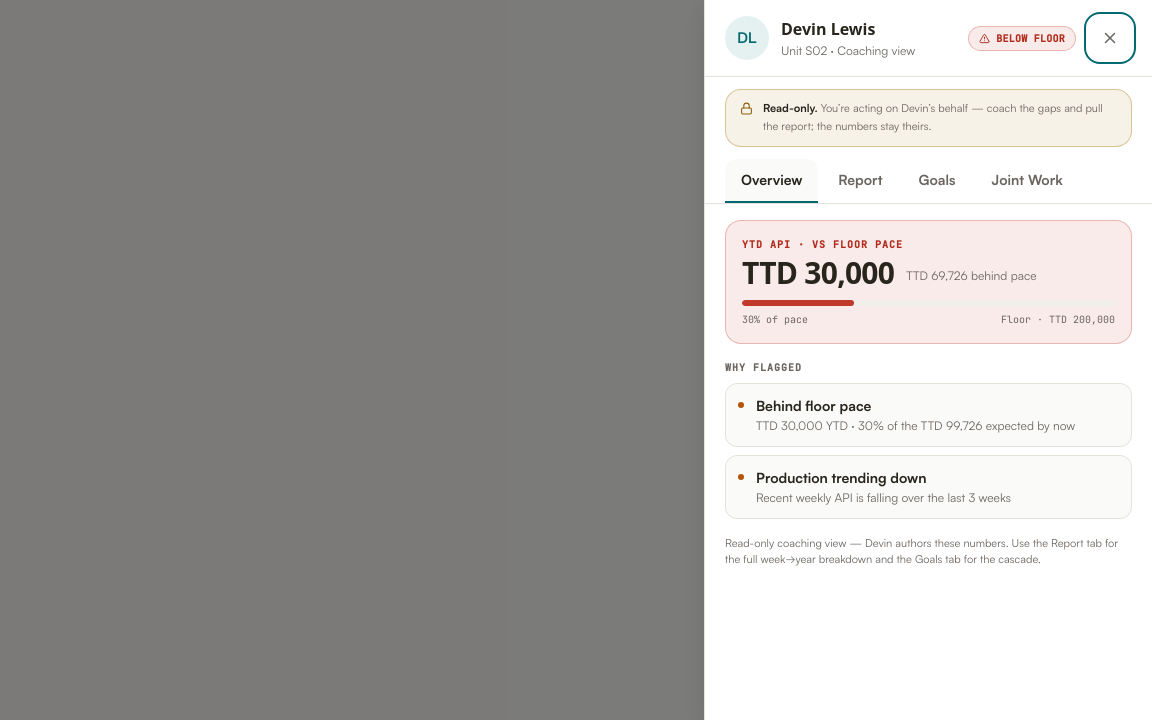
Test: AgentDrillDrawer › Goals tab renders the cascade from the hierarchy read
What coordinates should you click on to do the following:
click the tab with test id "drill-tab-goals"
I would click on:
 (937, 181)
Its box is [903,159,972,203].
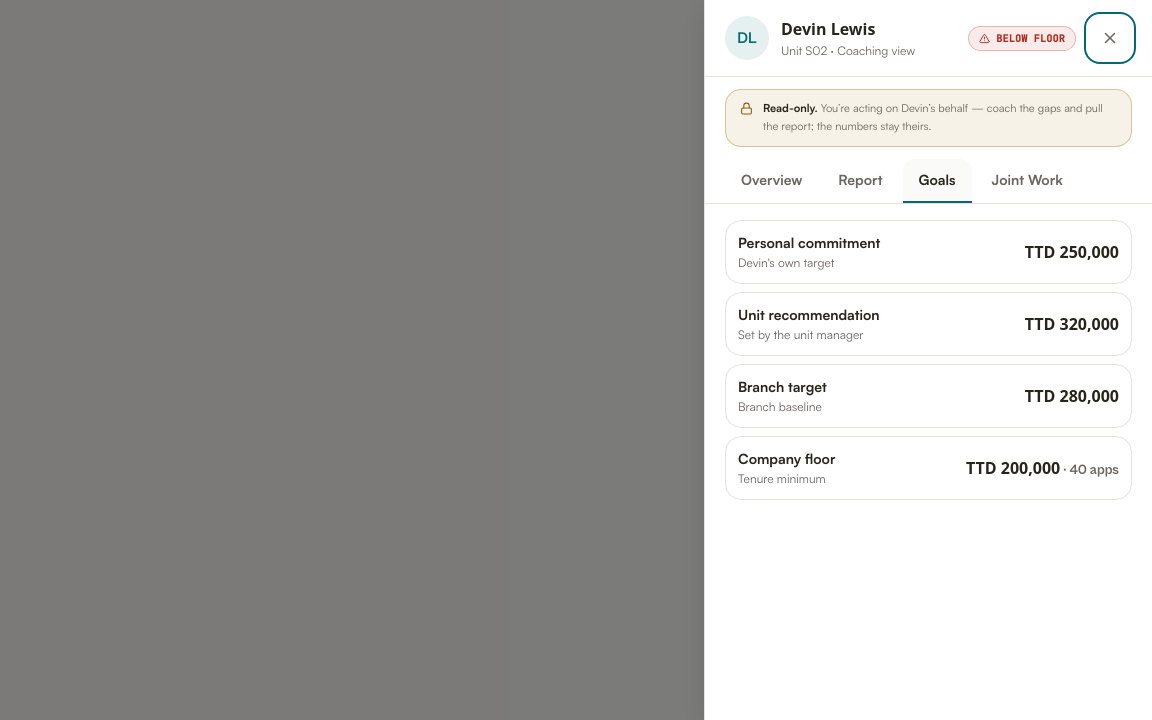
Now the element with test id "drill-goals-cascade" is shown, box [725,220,1132,500]
Now the text with test id "drill-goal-2" reads "TTD 280,000", box [1025,385,1119,407]
Now the element with test id "drill-goal-3" reads "TTD 200,000 · 40 apps", box [966,457,1060,479]
